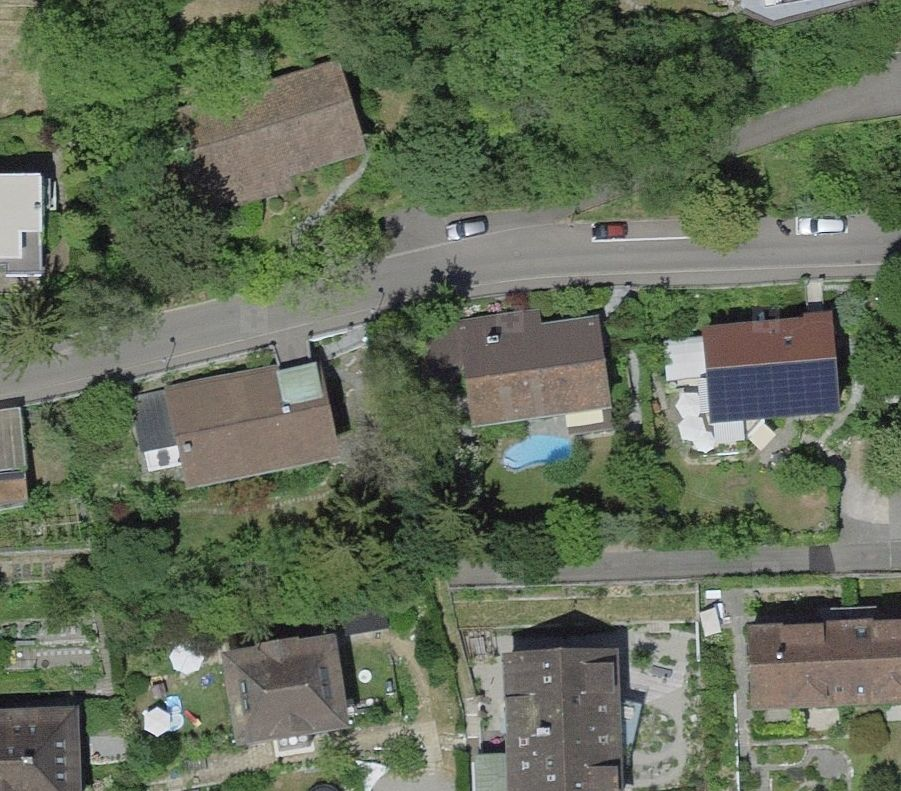solar: (702, 357, 844, 424)
